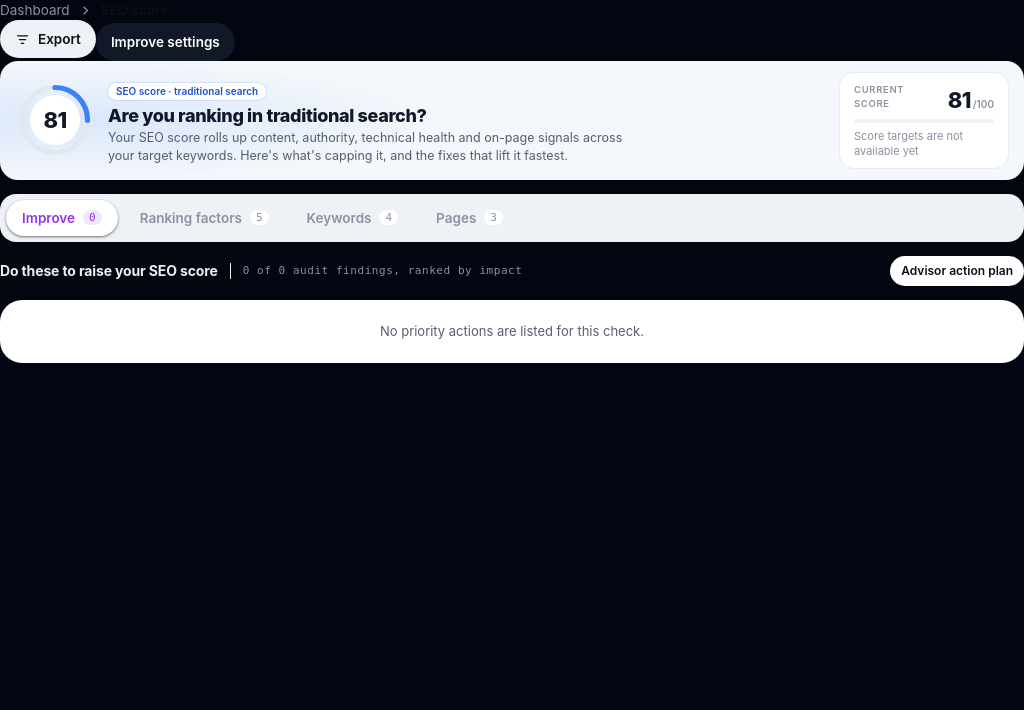
Scenario: ProjectSeoPage (approved SEO detail) › marks per-factor fix lists as unmeasured rather than showing the global list
Click the tab "Ranking factors 5".
click(204, 218)  # box [124, 200, 285, 236]
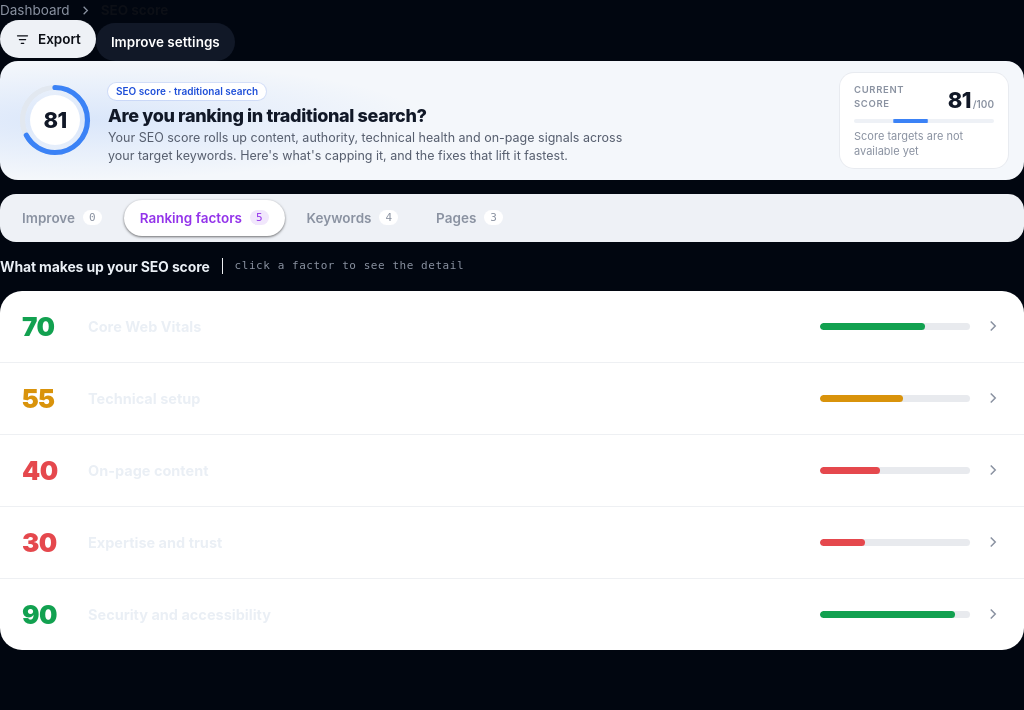
Click the button "70 Core Web Vitals".
click(38, 326)  # box [0, 291, 1023, 362]
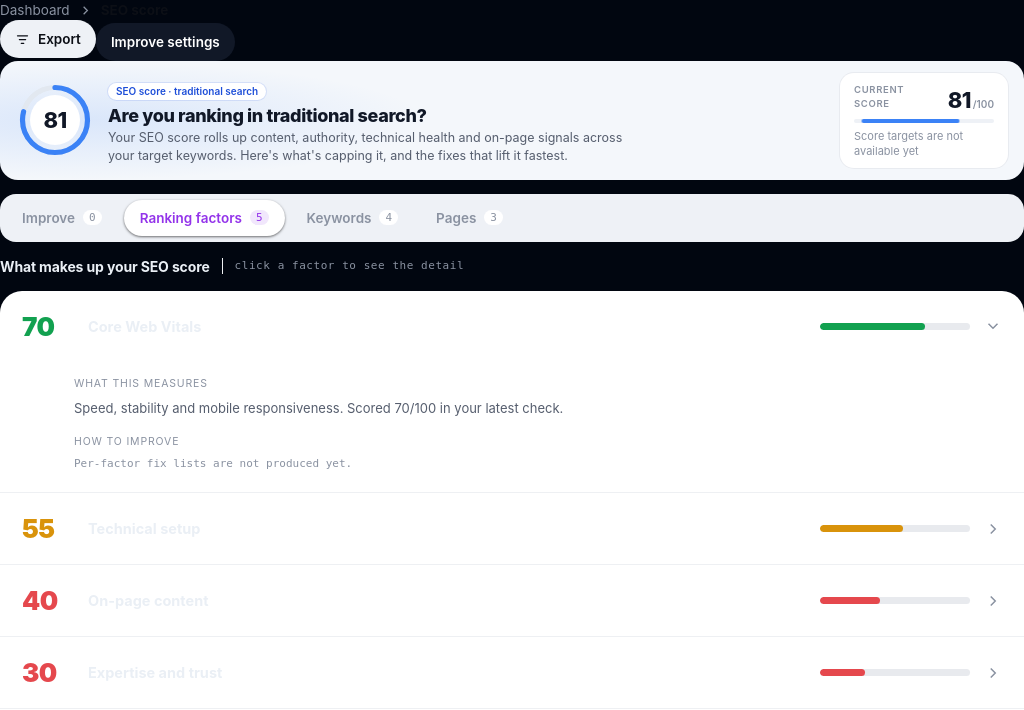
Now the text "Per-factor fix lists are not produced yet." is shown, box [74, 457, 352, 470]
